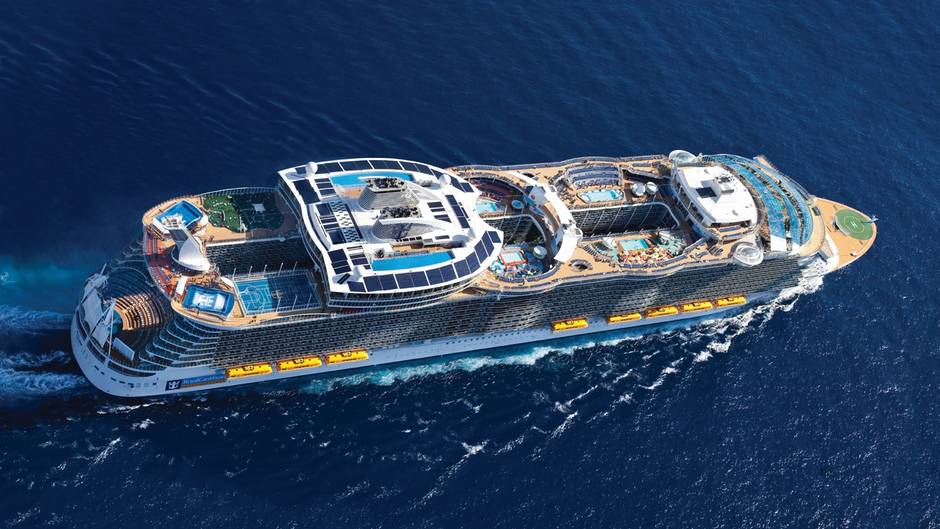ship: (65, 123, 922, 452)
